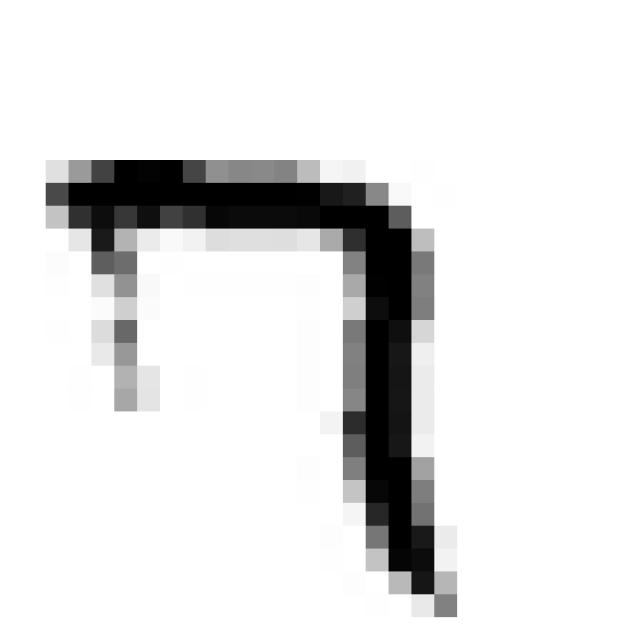6 -six-: (32, 139, 469, 632)
